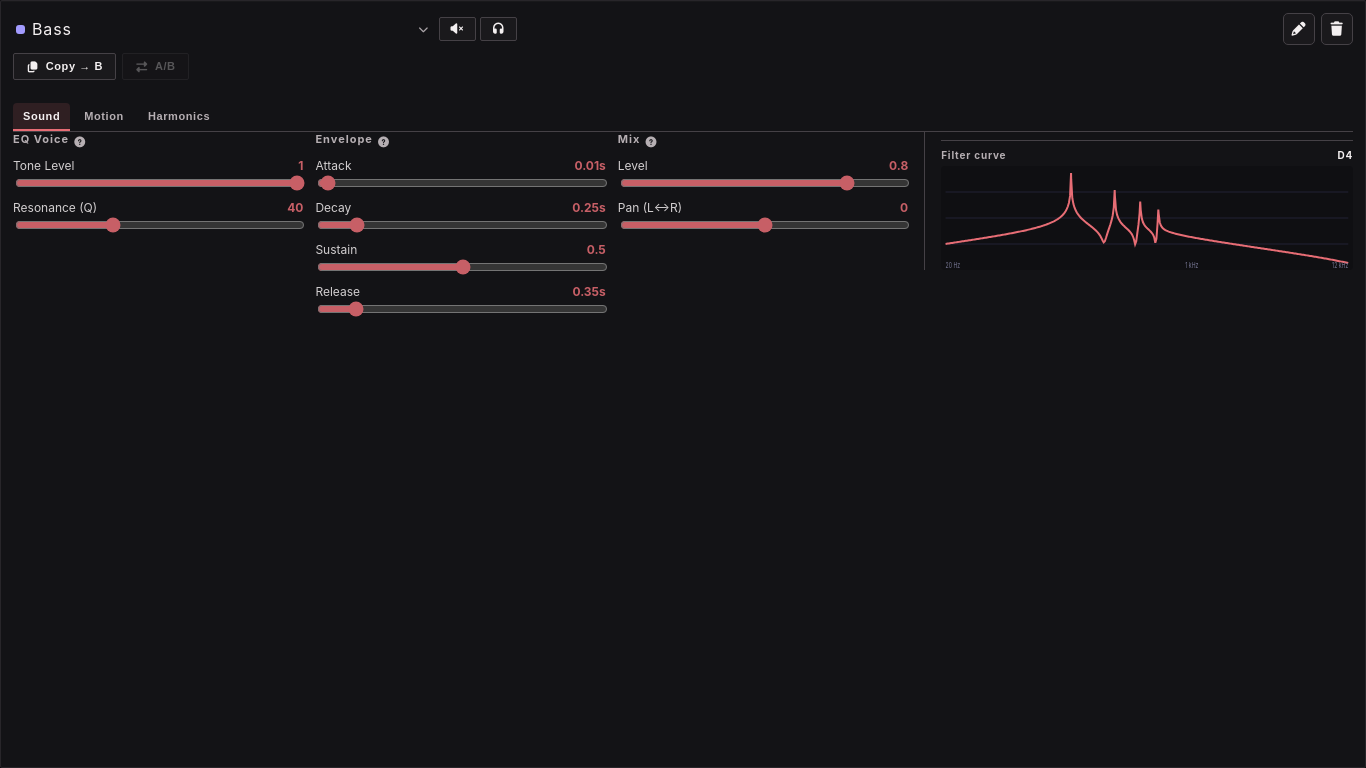
Test case: InstrumentPanel guided editing › opens focused help with an optional deeper explanation
Step 1. Click the tab "Motion" → (104, 117), box top-left (74, 103), bottom-right (134, 131)
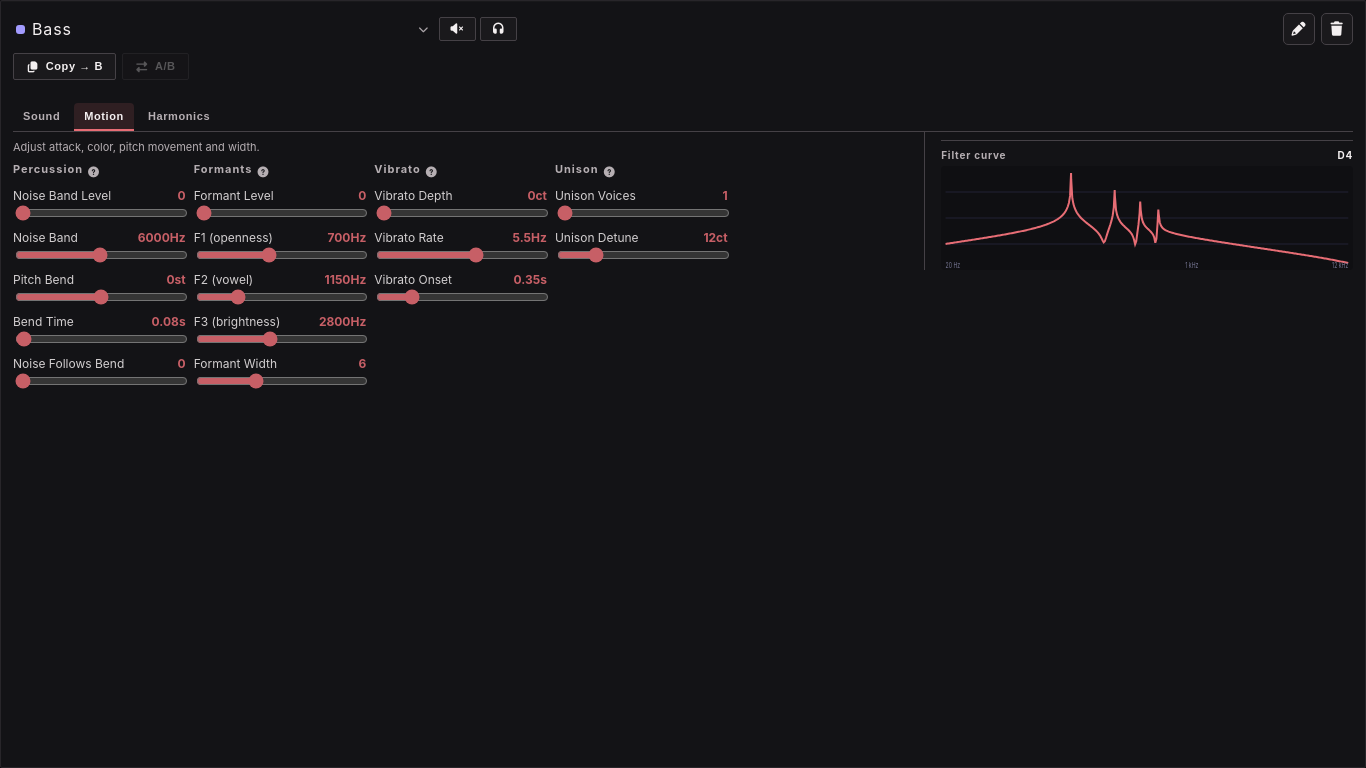
Step 2. Click the button named "Learn about Formants" → (263, 172), box top-left (256, 166), bottom-right (270, 178)
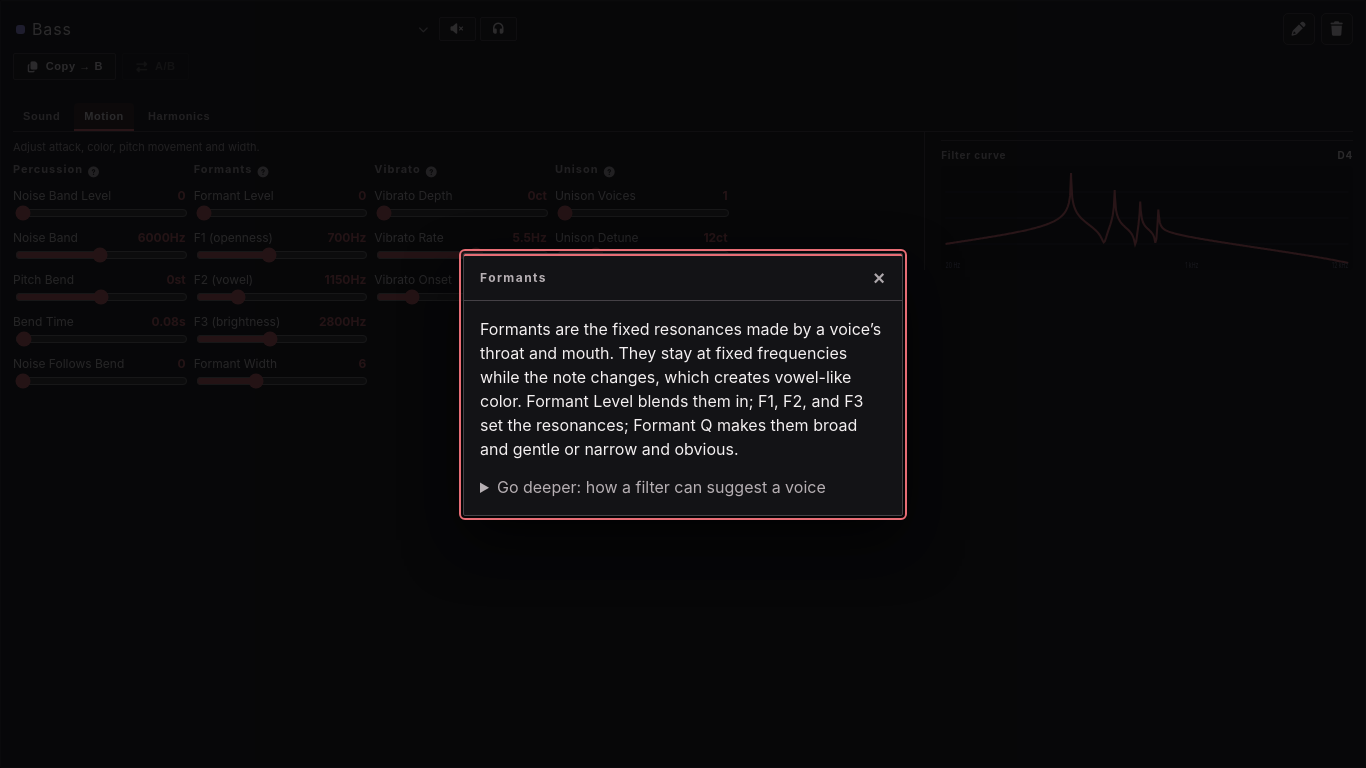
expect the dialog "Formants" shows "fixed resonances": met, box top-left (480, 318), bottom-right (881, 458)
expect the heading "Go deeper: how a filter can suggest a voice" is shown: met, box top-left (497, 476), bottom-right (826, 496)
